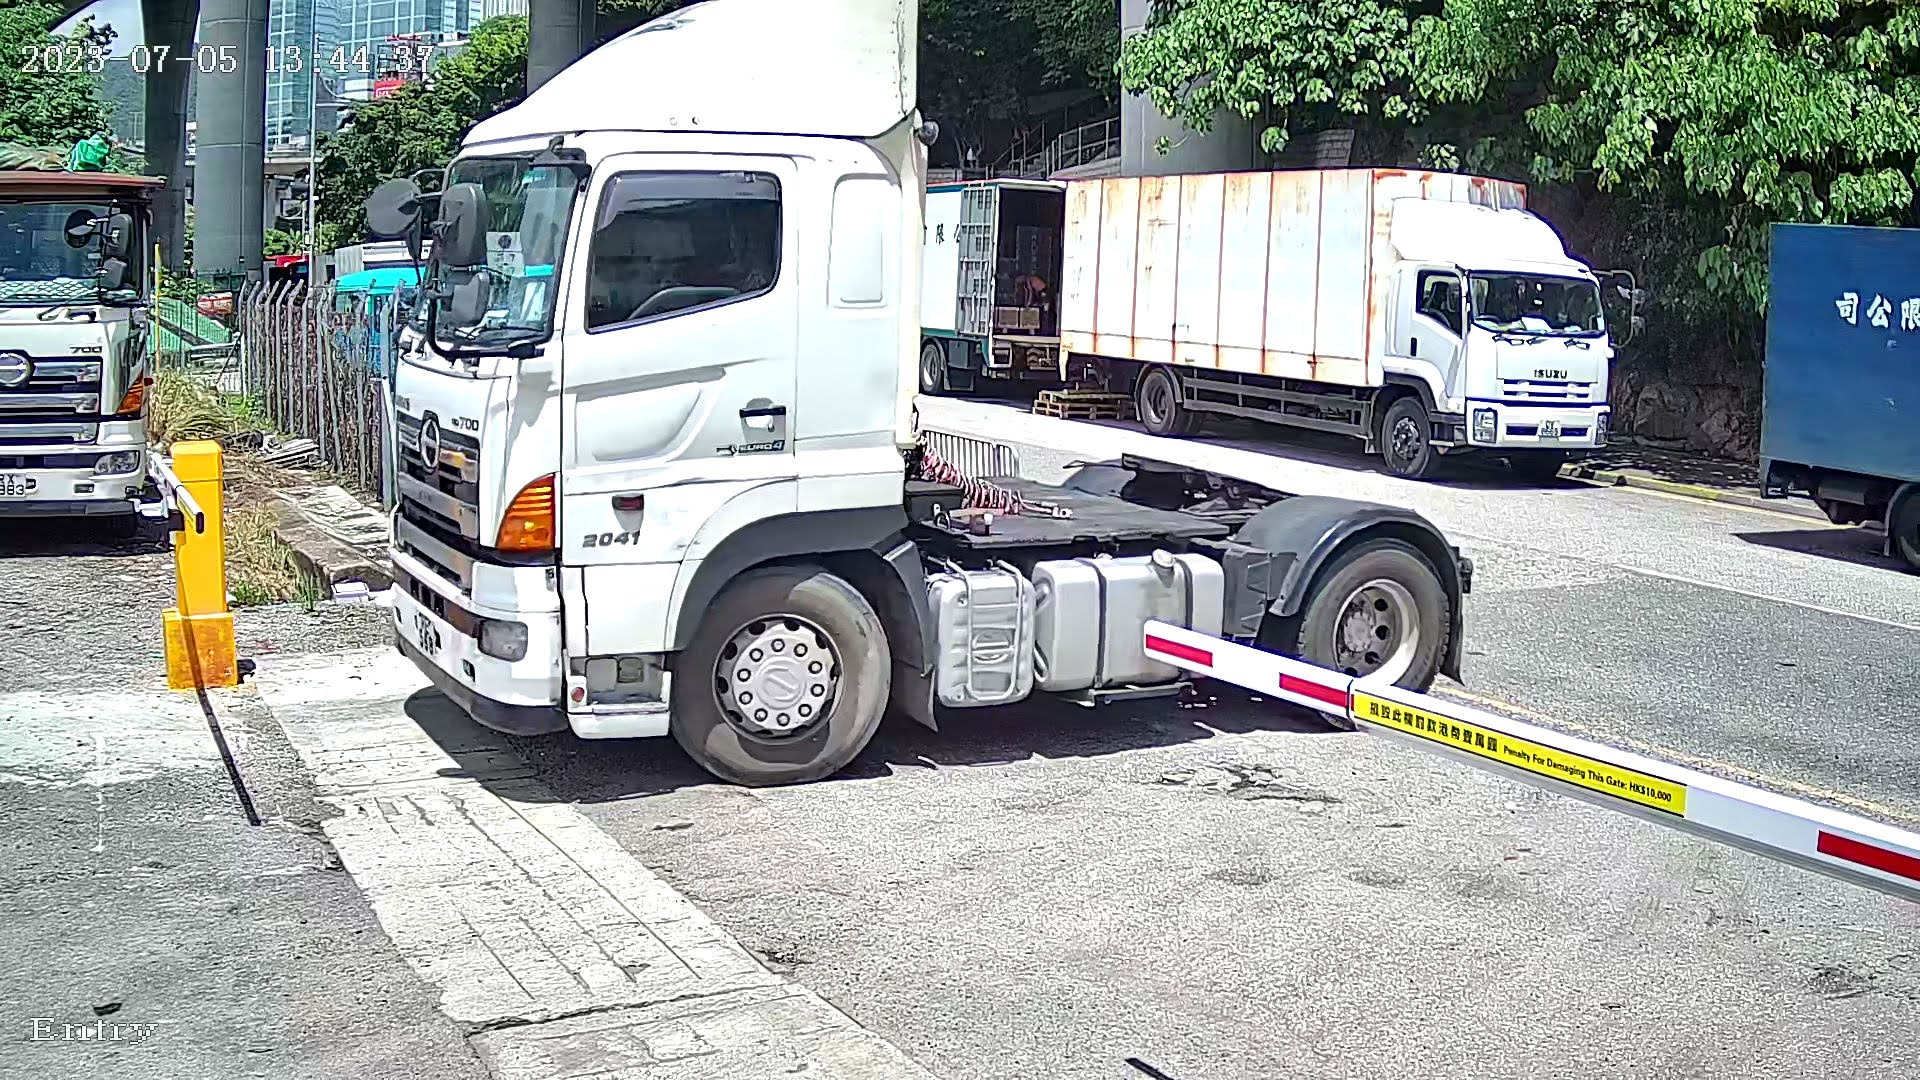truck: (336, 1, 1472, 804)
